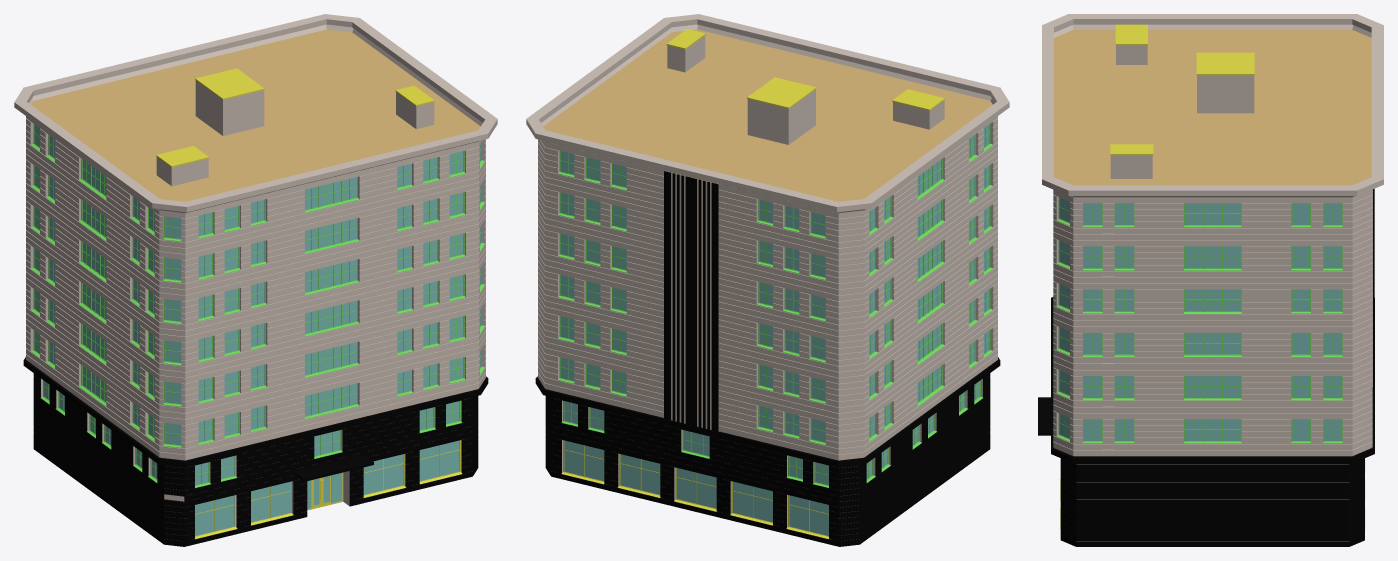
Rendered from Building_6.FBX.
3 renders of one model, left to right at view 1: azimuth 30°, elevation 25°; view 2: azimuth 150°, elevation 25°; view 3: azimuth 270°, elevation 25°, orthographic. The views are drawn at different scales.
Parts seen in each view (by area): view 1: B6_LOD0; view 2: B6_LOD0; view 3: B6_LOD0.
Part boxes in pixels (<box>): B6_LOD0: <box>14,14,497,546</box>; B6_LOD0: <box>526,14,1009,546</box>; B6_LOD0: <box>1038,14,1383,546</box>.
Size of what is drawn, in the model's own units: 2760 by 2866 by 2285.
